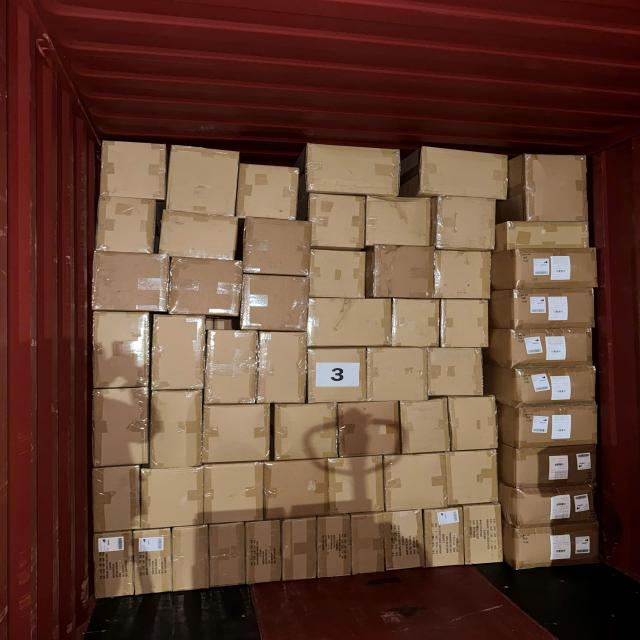Carton: (170, 148, 239, 219), (306, 144, 400, 195), (95, 313, 153, 392), (94, 253, 169, 313), (95, 390, 151, 470), (488, 364, 599, 404), (493, 251, 601, 292), (423, 152, 511, 202), (506, 526, 601, 572), (510, 480, 599, 529), (523, 156, 586, 225), (199, 404, 270, 465), (310, 300, 396, 350), (172, 258, 245, 316), (154, 312, 208, 390), (150, 392, 202, 472), (487, 330, 596, 368), (243, 217, 312, 276), (493, 290, 599, 328), (499, 449, 598, 489), (205, 331, 257, 406), (262, 460, 327, 520), (142, 468, 207, 528), (242, 273, 310, 330), (102, 140, 166, 200), (202, 461, 262, 524), (276, 404, 341, 461), (259, 330, 309, 404), (386, 456, 449, 513), (161, 212, 239, 258), (513, 406, 600, 447), (338, 401, 401, 457), (370, 247, 436, 300), (236, 165, 298, 221), (366, 196, 434, 247), (436, 196, 498, 251), (310, 347, 369, 404), (329, 458, 385, 518), (365, 346, 426, 401), (100, 198, 157, 255), (94, 464, 142, 531), (310, 193, 367, 249), (428, 345, 488, 397), (444, 451, 498, 508), (312, 249, 369, 300), (434, 250, 491, 301), (96, 531, 137, 597), (498, 220, 591, 249), (401, 399, 450, 454), (451, 396, 500, 450), (439, 296, 489, 348), (134, 527, 172, 595), (208, 522, 246, 589), (464, 505, 505, 567), (424, 508, 466, 568), (393, 296, 442, 347), (174, 526, 210, 595), (386, 511, 426, 572), (248, 521, 284, 584), (281, 520, 316, 583), (319, 518, 353, 582), (351, 514, 384, 578)
